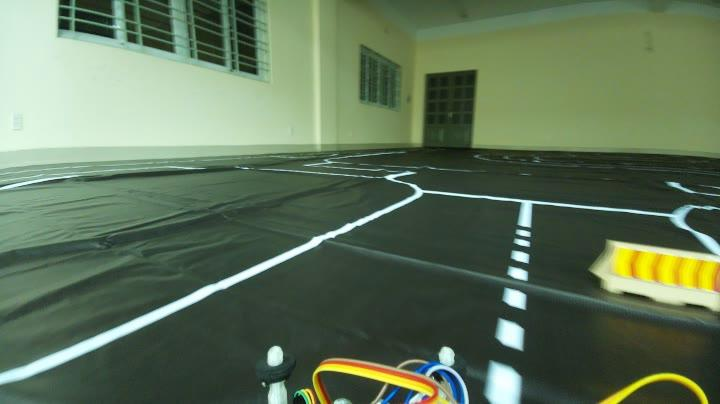roadblock: (587, 227, 719, 326)
